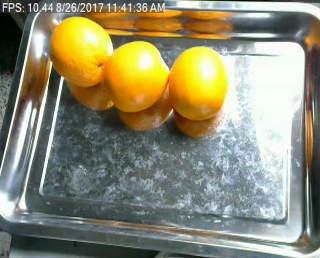Orange: (105, 39, 169, 111), (167, 44, 228, 119), (49, 15, 112, 85)
